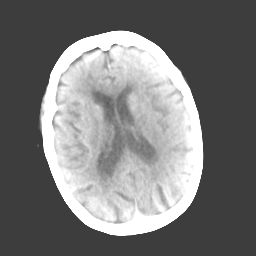ischemic: (139, 82, 191, 160)
